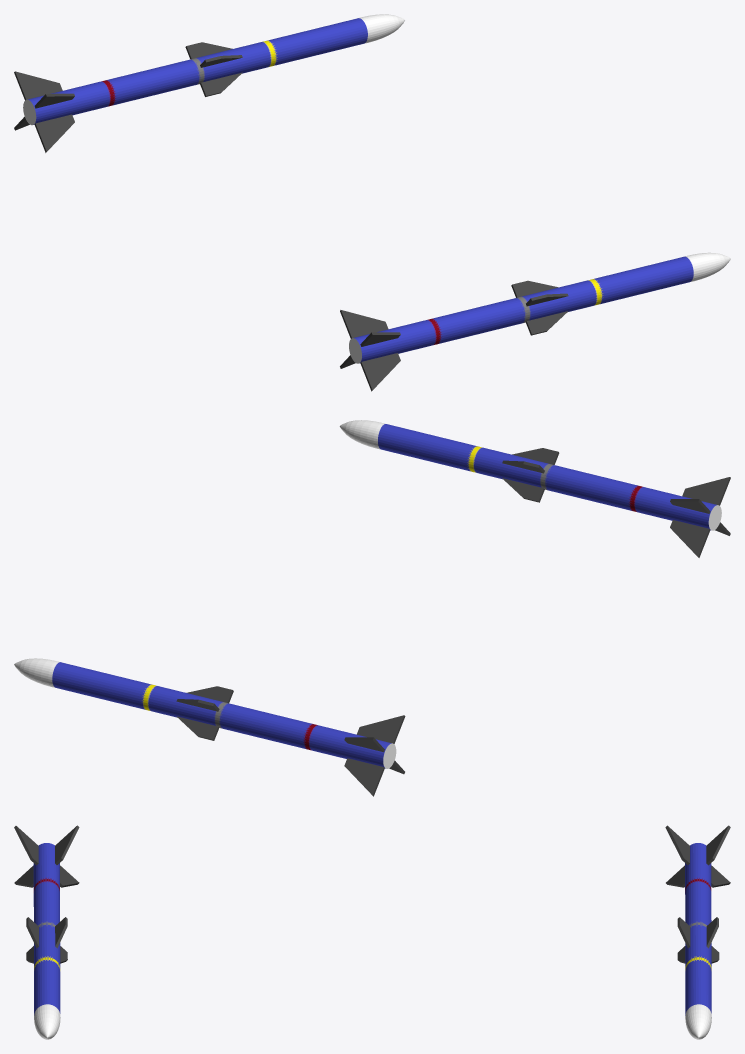
File: aam4df2a34.glb
3 renders of one model, top to bottom at view 1: azimuth 30°, elevation 25°; view 2: azimuth 150°, elevation 25°; view 3: azimuth 270°, elevation 25°, orthographic.
Visible parts, largest first — view 1: 球.001, 球.004; view 2: 球.001, 球.004; view 3: 球.001, 球.004.
Part boxes in pixels (x1,y1,x2,y2): 球.001: (14,14,404,152); 球.004: (340,252,730,391); 球.001: (14,658,405,796); 球.004: (339,420,730,557); 球.001: (665,825,730,1039); 球.004: (14,825,79,1039).
Bounding box in the file's own units: 4.82 × 0.7294 × 7.96.
Materials: 3 (1 with a texture image).
